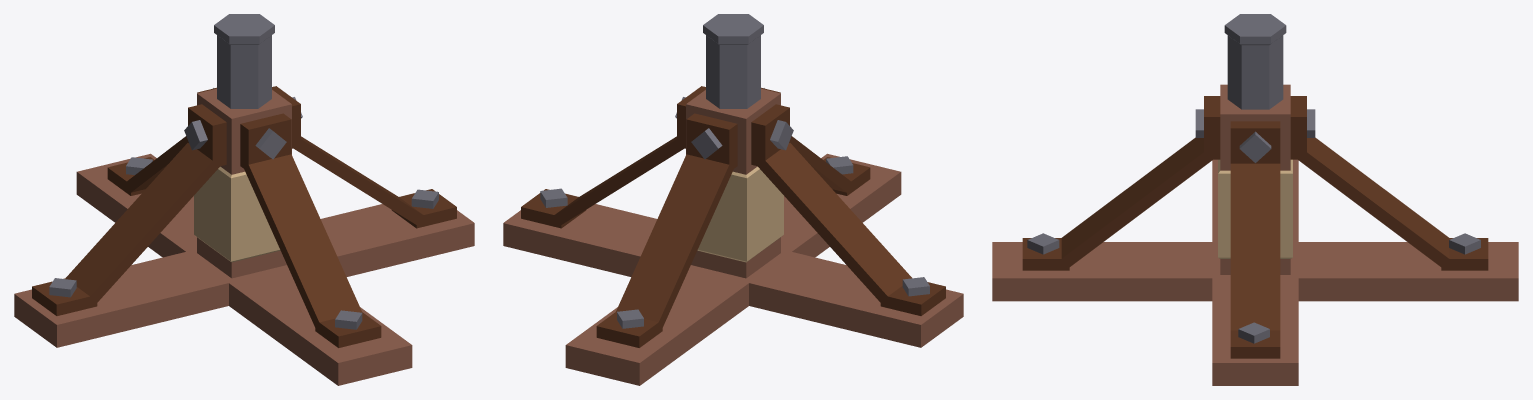
Rendered from Balista_stand.fbx.
The picture shows the model from 3 angles, left to right: view 1: azimuth 30°, elevation 25°; view 2: azimuth 150°, elevation 25°; view 3: azimuth 270°, elevation 25°; orthographic projection.
Visible parts, largest first — view 1: Balista Stand; view 2: Balista Stand; view 3: Balista Stand.
Part boxes in pixels (<box>): Balista Stand: <box>14,14,474,385</box>; Balista Stand: <box>503,14,963,385</box>; Balista Stand: <box>992,14,1518,385</box>.
Bounding box in the file's own units: 931 × 545 × 1008.
